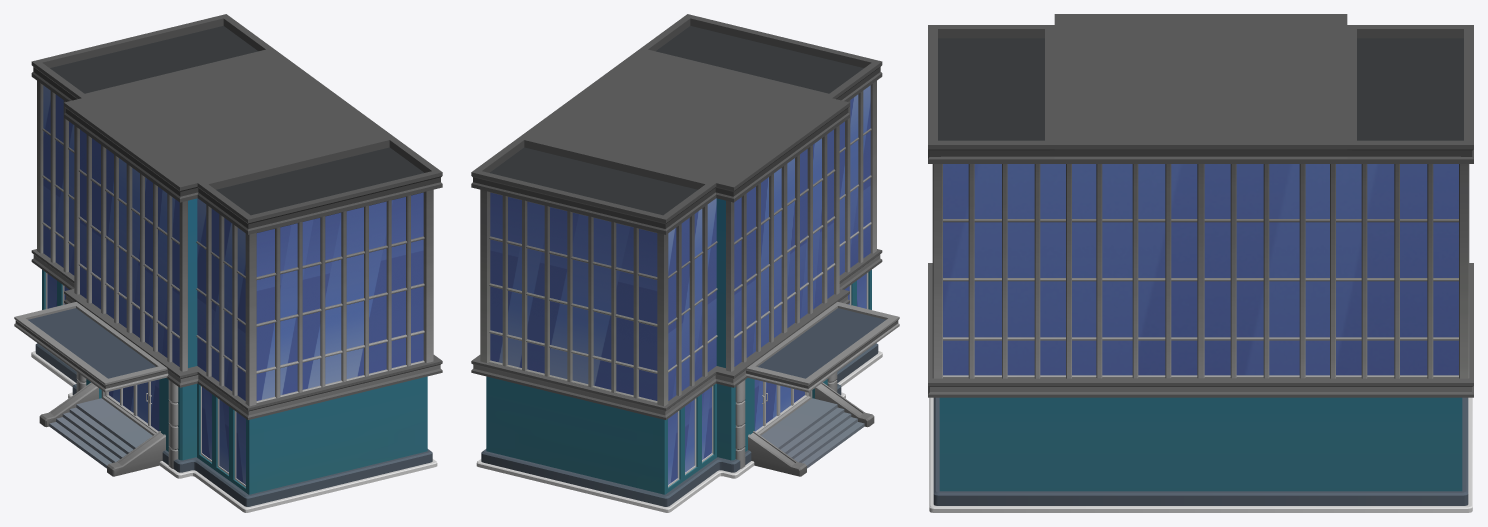
File: Building_17_1_JJ.fbx
The picture shows the model from 3 angles, left to right: view 1: azimuth 30°, elevation 25°; view 2: azimuth 150°, elevation 25°; view 3: azimuth 270°, elevation 25°; orthographic projection. The views are drawn at different scales.
Parts seen in each view (by area): view 1: Building_17_1_JJ; view 2: Building_17_1_JJ; view 3: Building_17_1_JJ.
Part boxes in pixels (box(x1,y1,x2,y2)): Building_17_1_JJ: box(14, 14, 442, 512); Building_17_1_JJ: box(471, 14, 899, 512); Building_17_1_JJ: box(928, 14, 1473, 512).
Size of the model in its own units: 857 by 875 by 1168.
